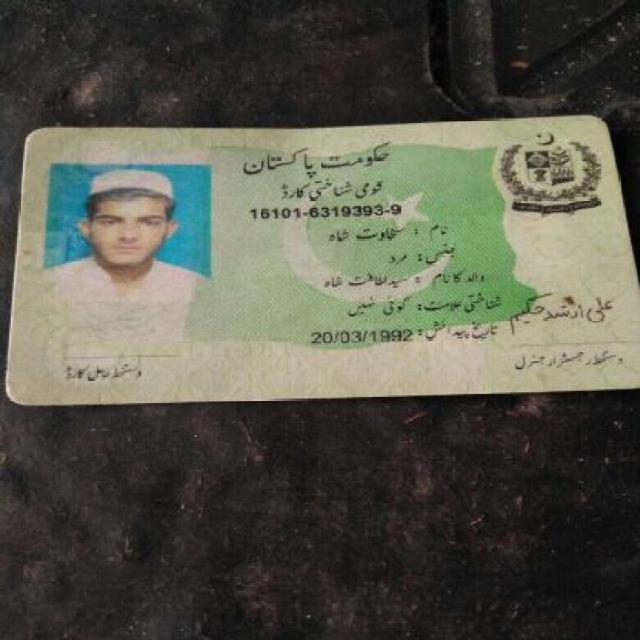Front: (11, 114, 635, 401)
